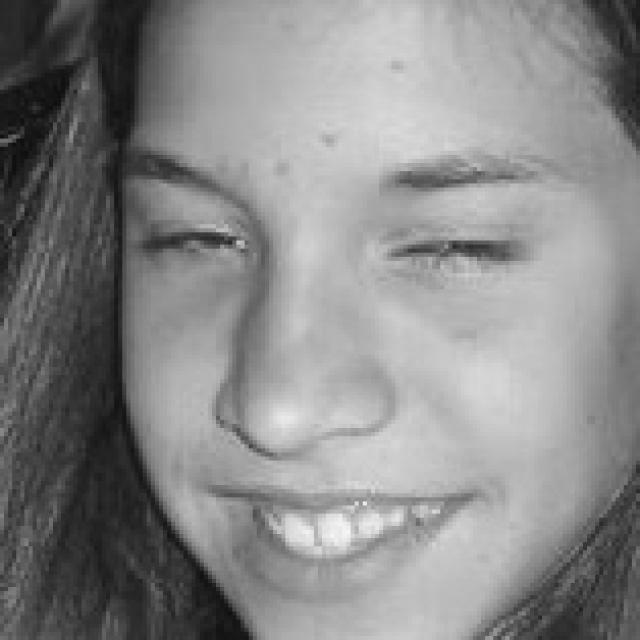real: (100, 20, 622, 634), (150, 181, 544, 319)
